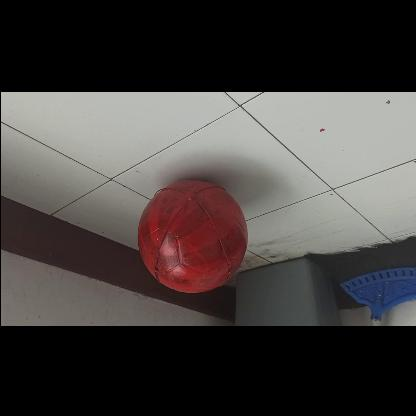red_ball: (133, 178, 247, 292)
